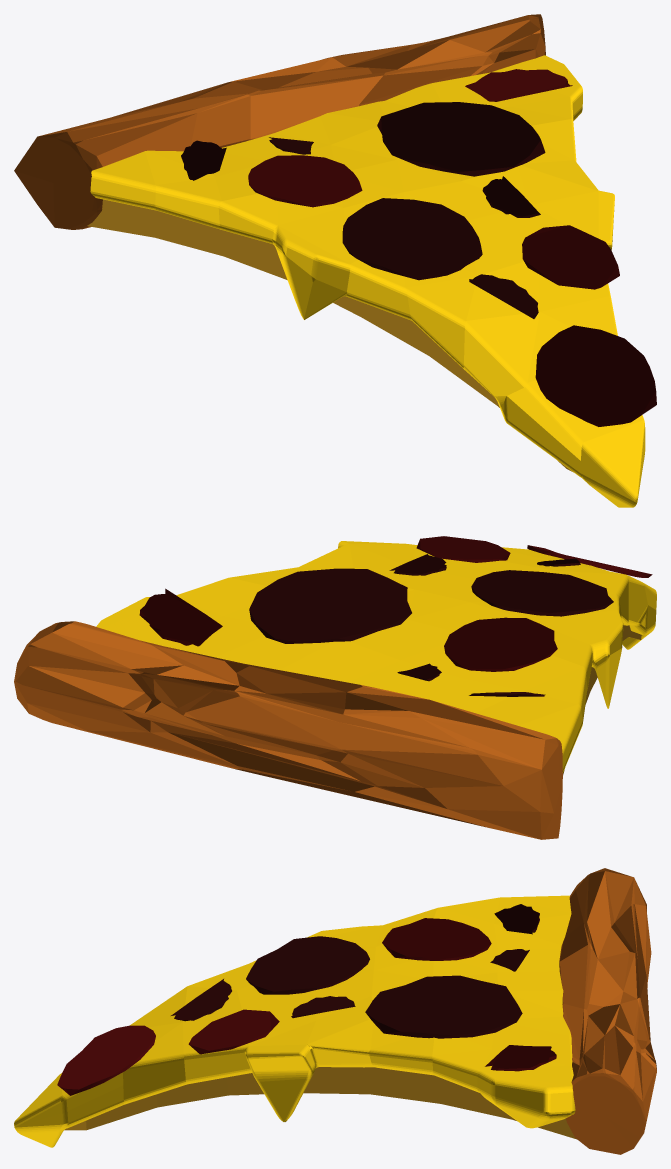
Rendered from Pizza.obj.
The picture shows the model from 3 angles, top to bottom: view 1: azimuth 30°, elevation 25°; view 2: azimuth 150°, elevation 25°; view 3: azimuth 270°, elevation 25°; orthographic projection. The views are drawn at different scales.
Visible parts, largest first — view 1: Plane.001, Cylinder.030, Cylinder.031, Cylinder.033, Cylinder.032, Plane, Cylinder.034, Cylinder.035, Cylinder.039, Cylinder.037, Cylinder.036, Cylinder.040; view 2: Cylinder.030, Plane.001, Cylinder.031, Cylinder.032, Cylinder.035, Cylinder.039, Cylinder.034, Cylinder.036, Cylinder.033, Cylinder.038; view 3: Plane.001, Cylinder.030, Plane, Cylinder.031, Cylinder.032, Cylinder.033, Cylinder.035, Cylinder.034, Cylinder.039, Cylinder.037, Cylinder.040, Cylinder.036 (+1 smaller).
Boxes of the visible parts, x1=… form: Plane.001: x1=90, y1=55, x2=645, y2=507; Cylinder.030: x1=14, y1=14, x2=545, y2=229; Cylinder.031: x1=377, y1=102, x2=545, y2=176; Cylinder.033: x1=535, y1=325, x2=656, y2=426; Cylinder.032: x1=342, y1=198, x2=482, y2=280; Plane: x1=87, y1=199, x2=573, y2=472; Cylinder.034: x1=522, y1=225, x2=619, y2=289; Cylinder.035: x1=248, y1=155, x2=362, y2=207; Cylinder.039: x1=465, y1=69, x2=572, y2=101; Cylinder.037: x1=469, y1=274, x2=538, y2=318; Cylinder.036: x1=482, y1=176, x2=540, y2=217; Cylinder.040: x1=181, y1=140, x2=226, y2=180; Cylinder.030: x1=14, y1=621, x2=562, y2=839; Plane.001: x1=96, y1=541, x2=656, y2=772; Cylinder.031: x1=249, y1=568, x2=411, y2=643; Cylinder.032: x1=471, y1=570, x2=613, y2=616; Cylinder.035: x1=444, y1=617, x2=557, y2=671; Cylinder.039: x1=139, y1=588, x2=222, y2=646; Cylinder.034: x1=416, y1=536, x2=510, y2=562; Cylinder.036: x1=389, y1=554, x2=446, y2=575; Cylinder.033: x1=527, y1=545, x2=652, y2=577; Cylinder.038: x1=397, y1=663, x2=441, y2=681; Plane.001: x1=14, y1=895, x2=575, y2=1147; Cylinder.030: x1=559, y1=868, x2=656, y2=1154; Plane: x1=64, y1=1067, x2=576, y2=1139; Cylinder.031: x1=365, y1=975, x2=522, y2=1038; Cylinder.032: x1=246, y1=936, x2=369, y2=994; Cylinder.033: x1=57, y1=1025, x2=155, y2=1095; Cylinder.035: x1=382, y1=918, x2=491, y2=960; Cylinder.034: x1=188, y1=1009, x2=279, y2=1054; Cylinder.039: x1=485, y1=1045, x2=556, y2=1071; Cylinder.037: x1=171, y1=979, x2=231, y2=1021; Cylinder.040: x1=494, y1=904, x2=539, y2=934; Cylinder.036: x1=291, y1=996, x2=355, y2=1018.
Size of the model in its own units: 0.7443 by 0.2755 by 0.904.
